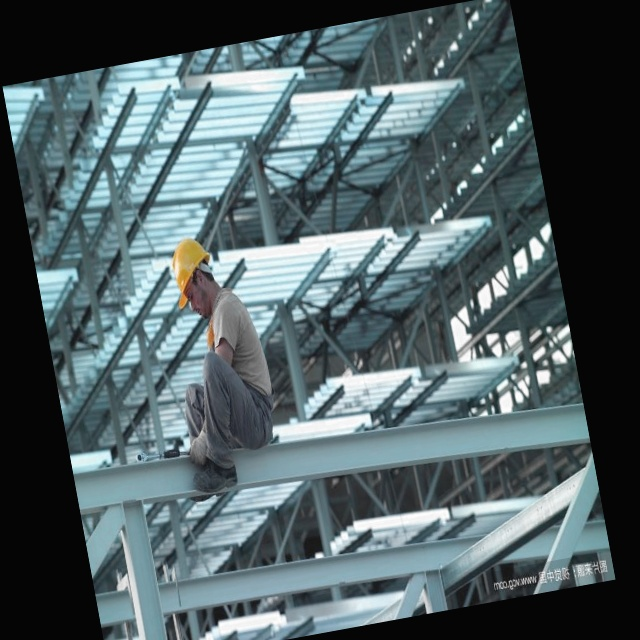Con_Casco: (166, 236, 222, 328)
